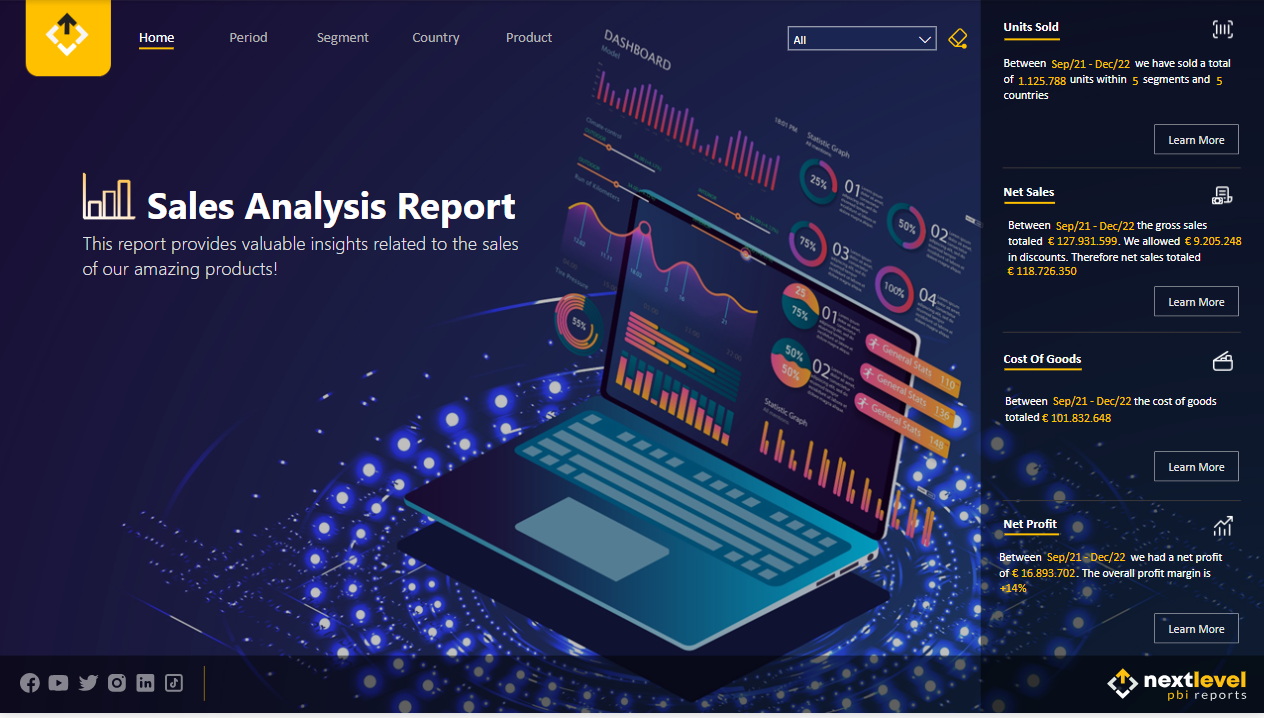

Layout of this report page (visuals, bound fields, positions):
{"tool":"powerbi","page":{"name":"Home","canvas":[1280,720],"ordinal":0},"visuals":[{"type":"actionButton","title":"Button_Clear_Managers","box":[952,26,36,25],"z":0,"group":"g11"},{"type":"textbox","box":[1010.1,49,239.9,65],"z":0,"group":"g3"},{"type":"actionButton","title":"Button_Units Sold","box":[1168,125,85,30],"z":0,"group":"g12"},{"type":"textbox","box":[1015.3,214,239.9,65],"z":0,"group":"g4"},{"type":"textbox","title":"Text box_Main Info","box":[80,227,456,69],"z":0,"group":"g9"},{"type":"actionButton","title":"Button_Net Sales","box":[1168,289.7,85,30],"z":0,"group":"g10"},{"type":"textbox","box":[1011,390,239.9,65],"z":0,"group":"g5"},{"type":"actionButton","title":"Button_COGs","box":[1168,454.3,85,30],"z":0,"group":"g8"},{"type":"group","id":"g1","title":"Right Pane Net Profit","box":[1004,514,249,135],"z":0,"group":"g7"},{"type":"textbox","box":[1005.7,547,239.9,65],"z":0,"group":"g6"},{"type":"actionButton","title":"Button_Net Profit","box":[1168,619,85,30],"z":0,"group":"g1"},{"type":"group","id":"g2","title":"Footer","box":[21,673,1243.3,38],"z":0},{"type":"actionButton","title":"Button_Facebook","box":[21,679.1,22,22],"z":0,"group":"g2"},{"type":"group","id":"g3","title":"Units Sold","box":[1004,49,246,65],"z":500,"group":"g12"},{"type":"group","id":"g4","title":"Net Sales","box":[1004,214,272.8,77.1],"z":500,"group":"g10"},{"type":"group","id":"g5","title":"COGs","box":[1011,390,239.9,65],"z":500,"group":"g8"},{"type":"group","id":"g6","title":"Net Profit","box":[1004,547,241.7,65],"z":500,"group":"g1"},{"type":"group","id":"g7","title":"Right Pane","box":[1004,13,272.8,636],"z":1000},{"type":"actionButton","title":"Button_Icon_Units Sold","box":[1221,13,32,32],"z":1000,"group":"g12"},{"type":"slicer","title":"Slicer_Managers","fields":{"Values":["DIM_MANAGERS.Manager Name"]},"box":[788,17,170,45],"z":1000,"group":"g11"},{"type":"card","fields":{"Values":["*Measures.M_Date Selection"]},"box":[1052,49.4,100.6,31.8],"z":1000,"group":"g3"},{"type":"textbox","title":"Text box_Title","box":[145,175,415,70],"z":1000,"group":"g9"},{"type":"actionButton","title":"Button_Icon_Net Sales","box":[1221,180,32,32],"z":1000,"group":"g10"},{"type":"card","fields":{"Values":["*Measures.M_Discounts"]},"box":[1177.3,230.9,99.5,28.7],"z":1000,"group":"g4"},{"type":"group","id":"g8","title":"Right Pane COGs","box":[1010,347,243,137.3],"z":1000,"group":"g7"},{"type":"actionButton","title":"Button_Icon_COGs","box":[1221,347,32,32],"z":1000,"group":"g8"},{"type":"card","fields":{"Values":["*Measures.M_Date Selection"]},"box":[1052.9,390.4,100.6,31.8],"z":1000,"group":"g5"},{"type":"actionButton","title":"Button_Icon_Net Profit","box":[1221,514,32,32],"z":1000,"group":"g1"},{"type":"card","fields":{"Values":["*Measures.M_Date Selection"]},"box":[1047.7,547.4,100.6,31.8],"z":1000,"group":"g6"},{"type":"actionButton","title":"Button_YouTube","box":[50.1,679,22.1,22.1],"z":1000,"group":"g2"},{"type":"actionButton","title":"Button_Product","box":[491,17,90.6,40.3],"z":2000,"group":"g11"},{"type":"shape","title":"Shape_Units Sold","box":[1016,23,56,31],"z":2000,"group":"g12"},{"type":"card","fields":{"Values":["*Measures.M_Units Sold"]},"box":[1004,66.5,99.2,30.3],"z":2000,"group":"g3"},{"type":"group","id":"g9","title":"Main","box":[73,157,487,139],"z":2000},{"type":"actionButton","title":"Button_Main Icon","box":[73,157,80,80],"z":2000,"group":"g9"},{"type":"group","id":"g10","title":"Right Pane Net Sales","box":[1004,180,272.8,139.7],"z":2000,"group":"g7"},{"type":"shape","title":"Shape_Net Sales","box":[1016,189.7,51,31],"z":2000,"group":"g10"},{"type":"card","fields":{"Values":["*Measures.M_Net Sales"]},"box":[1004,260.9,99.2,30.2],"z":2000,"group":"g4"},{"type":"shape","title":"Shape_COGs","box":[1016,356.3,78,31],"z":2000,"group":"g8"},{"type":"card","fields":{"Values":["*Measures.M_Cost Of Goods"]},"box":[1038.9,407.5,99.2,30.3],"z":2000,"group":"g5"},{"type":"shape","title":"Shape_Net Profit","box":[1016,523,55,31],"z":2000,"group":"g1"},{"type":"card","fields":{"Values":["*Measures.M_Profit"]},"box":[1005.7,563.4,99.2,30.3],"z":2000,"group":"g6"},{"type":"actionButton","title":"Button_Twitter","box":[79.3,679,22.1,22.1],"z":2000,"group":"g2"},{"type":"group","id":"g11","title":"Header","box":[46,11,942,54],"z":3000},{"type":"group","id":"g12","title":"Right Pane Units Sold","box":[1004,13,249,142],"z":3000,"group":"g7"},{"type":"textbox","title":"Text box_Units Sold","box":[1010,13,100,30],"z":3000,"group":"g12"},{"type":"actionButton","title":"Button_Country","box":[396.8,17,90.6,40.3],"z":3000,"group":"g11"},{"type":"card","fields":{"Values":["*Measures.M_# of Distinct Segments"]},"box":[1132,66.5,30.2,30.3],"z":3000,"group":"g3"},{"type":"textbox","title":"Text box_Net Sales","box":[1010,180,100,30],"z":3000,"group":"g10"},{"type":"card","fields":{"Values":["*Measures.M_Date Selection"]},"box":[1057.3,214.4,100.6,31.8],"z":3000,"group":"g4"},{"type":"textbox","title":"Text box_COGs","box":[1010,347,100,30],"z":3000,"group":"g8"},{"type":"textbox","title":"Text box_Net Profit","box":[1010,514,100,30],"z":3000,"group":"g1"},{"type":"actionButton","title":"Button_Instagram","box":[108.6,679,22.1,22.1],"z":3000,"group":"g2"},{"type":"actionButton","title":"Button_Segment","box":[302.7,17,90.6,40.3],"z":4000,"group":"g11"},{"type":"card","fields":{"Values":["*Measures.M_# of Distinct Countries"]},"box":[1216.9,66.5,30.2,30.3],"z":4000,"group":"g3"},{"type":"card","fields":{"Values":["*Measures.M_Gross Sales"]},"box":[1045.3,230.9,99.2,30.3],"z":4000,"group":"g4"},{"type":"card","fields":{"Values":["*Measures.M_Profit Margin Formatted"]},"box":[1004,578.1,40.5,30.4],"z":4000,"group":"g6"},{"type":"actionButton","title":"Button_Linkedin","box":[137.8,679,22.1,22.1],"z":4000,"group":"g2"},{"type":"actionButton","title":"Button_Period","box":[208.5,17,90.6,40.3],"z":5000,"group":"g11"},{"type":"actionButton","title":"Button_TikTok","box":[167,679,22.1,22.1],"z":5000,"group":"g2"},{"type":"shape","title":"Shape_Home Active","box":[143,34,35,31],"z":6000,"group":"g11"},{"type":"shape","title":"Shape_Line","box":[191,673,35,35],"z":6000,"group":"g2"},{"type":"actionButton","title":"Button_Home","box":[115,17.3,90,40],"z":7000,"group":"g11"},{"type":"actionButton","title":"Button_Logo","box":[1119,673,145.3,38],"z":7000,"group":"g2"},{"type":"actionButton","title":"Button_Logo","box":[46,11,50,50],"z":8000,"group":"g11"}]}

Visuals, with their boxes in screenshot pixels (x1, y1, x2, y2), scaled from the page's 1280x720 canvas onto the 1264x718 screenshot:
"Button_Clear_Managers" actionButton: [left=940, top=26, right=976, bottom=51]
textbox: [left=997, top=49, right=1234, bottom=114]
"Button_Units Sold" actionButton: [left=1153, top=125, right=1237, bottom=155]
textbox: [left=1003, top=213, right=1240, bottom=278]
"Text box_Main Info" textbox: [left=79, top=226, right=529, bottom=295]
"Button_Net Sales" actionButton: [left=1153, top=289, right=1237, bottom=319]
textbox: [left=998, top=389, right=1235, bottom=454]
"Button_COGs" actionButton: [left=1153, top=453, right=1237, bottom=483]
"Right Pane Net Profit" group: [left=991, top=513, right=1237, bottom=647]
textbox: [left=993, top=545, right=1230, bottom=610]
"Button_Net Profit" actionButton: [left=1153, top=617, right=1237, bottom=647]
"Footer" group: [left=21, top=671, right=1248, bottom=709]
"Button_Facebook" actionButton: [left=21, top=677, right=42, bottom=699]
"Units Sold" group: [left=991, top=49, right=1234, bottom=114]
"Net Sales" group: [left=991, top=213, right=1261, bottom=290]
"COGs" group: [left=998, top=389, right=1235, bottom=454]
"Net Profit" group: [left=991, top=545, right=1230, bottom=610]
"Right Pane" group: [left=991, top=13, right=1261, bottom=647]
"Button_Icon_Units Sold" actionButton: [left=1206, top=13, right=1237, bottom=45]
"Slicer_Managers" slicer: [left=778, top=17, right=946, bottom=62]
card - *Measures.M_Date Selection: [left=1039, top=49, right=1138, bottom=81]
"Text box_Title" textbox: [left=143, top=175, right=553, bottom=244]
"Button_Icon_Net Sales" actionButton: [left=1206, top=180, right=1237, bottom=211]
card - *Measures.M_Discounts: [left=1163, top=230, right=1261, bottom=259]
"Right Pane COGs" group: [left=997, top=346, right=1237, bottom=483]
"Button_Icon_COGs" actionButton: [left=1206, top=346, right=1237, bottom=378]
card - *Measures.M_Date Selection: [left=1040, top=389, right=1139, bottom=421]
"Button_Icon_Net Profit" actionButton: [left=1206, top=513, right=1237, bottom=544]
card - *Measures.M_Date Selection: [left=1035, top=546, right=1134, bottom=578]
"Button_YouTube" actionButton: [left=49, top=677, right=71, bottom=699]
"Button_Product" actionButton: [left=485, top=17, right=574, bottom=57]
"Shape_Units Sold" shape: [left=1003, top=23, right=1059, bottom=54]
card - *Measures.M_Units Sold: [left=991, top=66, right=1089, bottom=97]
"Main" group: [left=72, top=157, right=553, bottom=295]
"Button_Main Icon" actionButton: [left=72, top=157, right=151, bottom=236]
"Right Pane Net Sales" group: [left=991, top=180, right=1261, bottom=319]
"Shape_Net Sales" shape: [left=1003, top=189, right=1054, bottom=220]
card - *Measures.M_Net Sales: [left=991, top=260, right=1089, bottom=290]
"Shape_COGs" shape: [left=1003, top=355, right=1080, bottom=386]
card - *Measures.M_Cost Of Goods: [left=1026, top=406, right=1124, bottom=437]
"Shape_Net Profit" shape: [left=1003, top=522, right=1058, bottom=552]
card - *Measures.M_Profit: [left=993, top=562, right=1091, bottom=592]
"Button_Twitter" actionButton: [left=78, top=677, right=100, bottom=699]
"Header" group: [left=45, top=11, right=976, bottom=65]
"Right Pane Units Sold" group: [left=991, top=13, right=1237, bottom=155]
"Text box_Units Sold" textbox: [left=997, top=13, right=1096, bottom=43]
"Button_Country" actionButton: [left=392, top=17, right=481, bottom=57]
card - *Measures.M_# of Distinct Segments: [left=1118, top=66, right=1148, bottom=97]
"Text box_Net Sales" textbox: [left=997, top=180, right=1096, bottom=209]
card - *Measures.M_Date Selection: [left=1044, top=214, right=1143, bottom=246]
"Text box_COGs" textbox: [left=997, top=346, right=1096, bottom=376]
"Text box_Net Profit" textbox: [left=997, top=513, right=1096, bottom=542]
"Button_Instagram" actionButton: [left=107, top=677, right=129, bottom=699]
"Button_Segment" actionButton: [left=299, top=17, right=388, bottom=57]
card - *Measures.M_# of Distinct Countries: [left=1202, top=66, right=1232, bottom=97]
card - *Measures.M_Gross Sales: [left=1032, top=230, right=1130, bottom=260]
card - *Measures.M_Profit Margin Formatted: [left=991, top=576, right=1031, bottom=607]
"Button_Linkedin" actionButton: [left=136, top=677, right=158, bottom=699]
"Button_Period" actionButton: [left=206, top=17, right=295, bottom=57]
"Button_TikTok" actionButton: [left=165, top=677, right=187, bottom=699]
"Shape_Home Active" shape: [left=141, top=34, right=176, bottom=65]
"Shape_Line" shape: [left=189, top=671, right=223, bottom=706]
"Button_Home" actionButton: [left=114, top=17, right=202, bottom=57]
"Button_Logo" actionButton: [left=1105, top=671, right=1248, bottom=709]
"Button_Logo" actionButton: [left=45, top=11, right=95, bottom=61]
